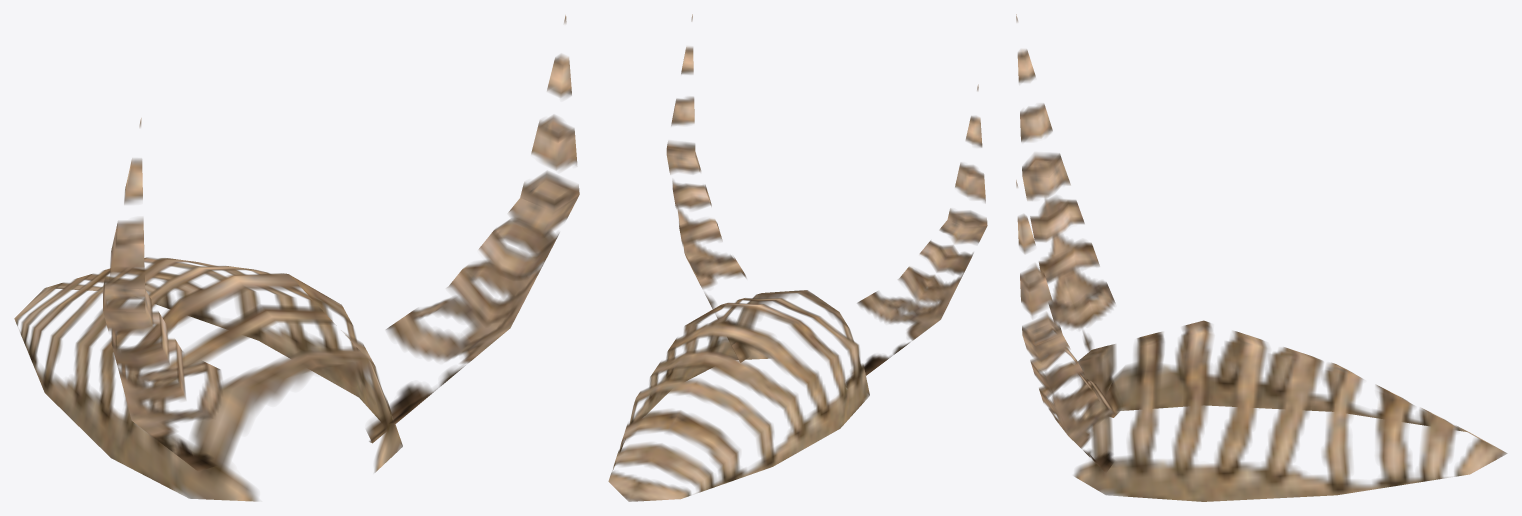
3 views of the same model, side by side, from view 1: azimuth 30°, elevation 25°; view 2: azimuth 150°, elevation 25°; view 3: azimuth 270°, elevation 25° (orthographic). The views are drawn at different scales.
Parts seen in each view (by area): view 1: skull; view 2: skull; view 3: skull.
Boxes of the visible parts, bbox=[...] form: skull: bbox=[14, 15, 579, 501]; skull: bbox=[608, 14, 987, 501]; skull: bbox=[1016, 14, 1507, 501].
Bounding box in the file's own units: 81.56 × 73.24 × 91.33.
Materials: 1 (1 with a texture image).
